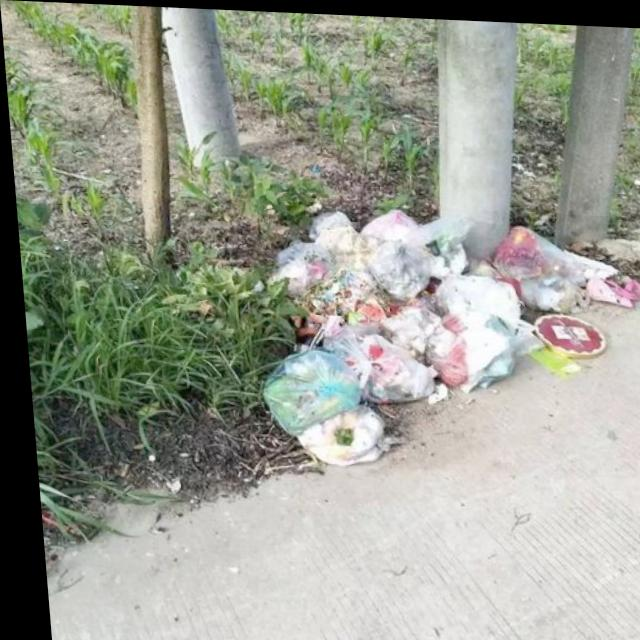garbage: (235, 198, 640, 474)
